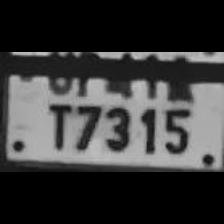1: (132, 102, 160, 155)
3: (98, 100, 132, 154)
5: (158, 102, 194, 156)
7: (68, 99, 100, 152)
T: (38, 98, 74, 152)
